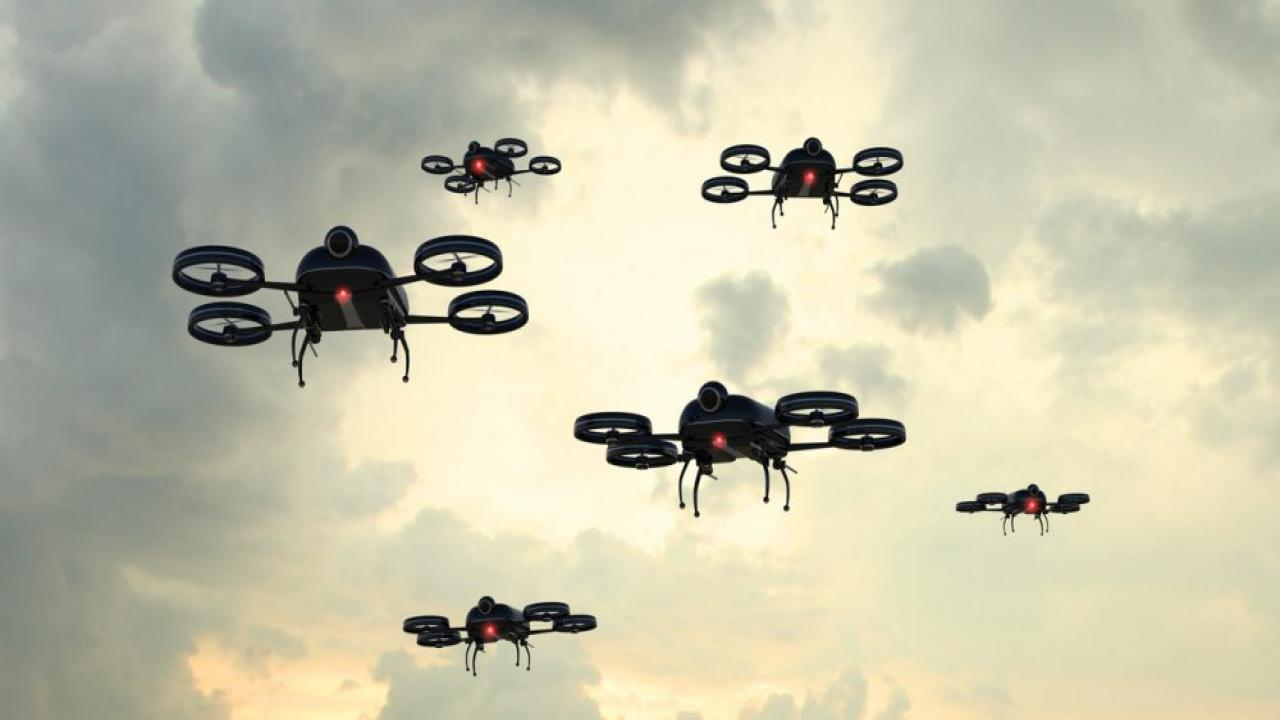Drone: (161, 216, 539, 394), (565, 374, 912, 524), (699, 130, 907, 238), (393, 589, 602, 682), (407, 128, 575, 214), (951, 477, 1096, 546)
